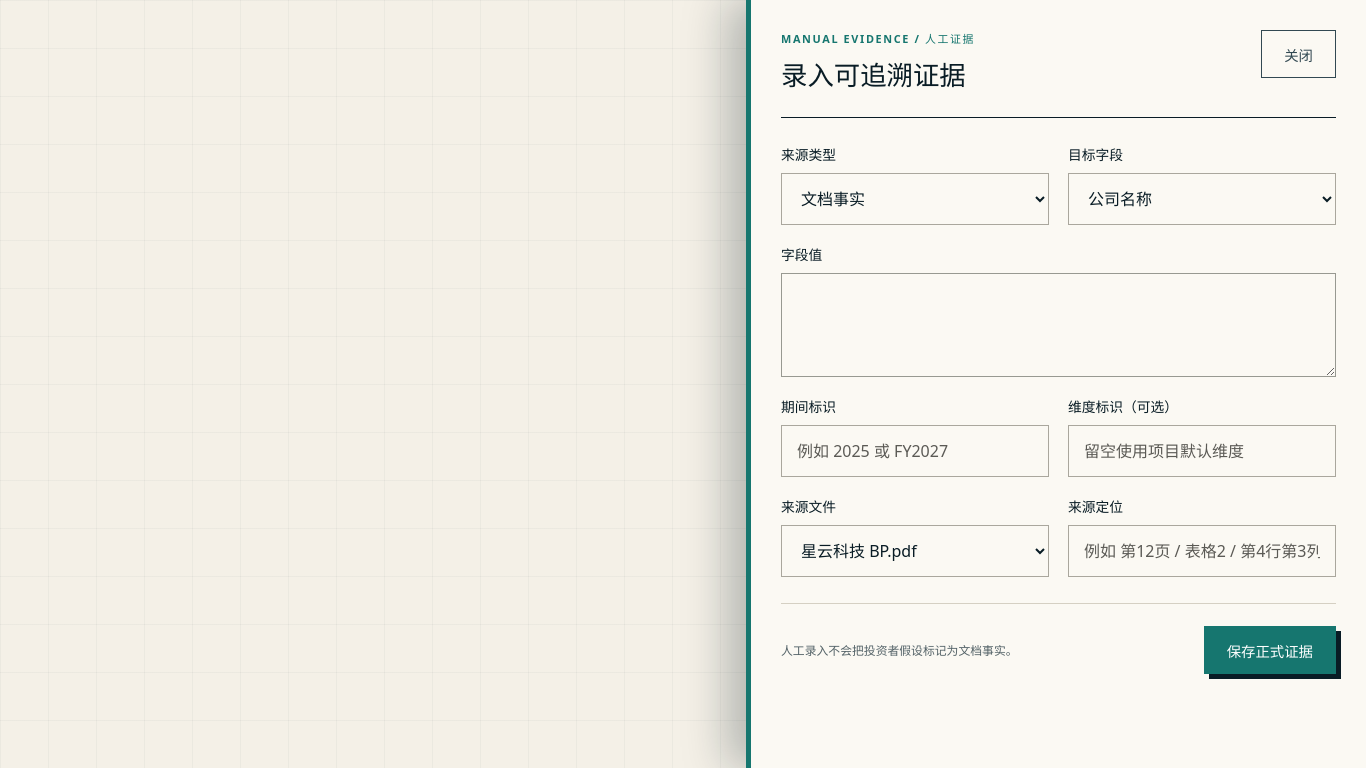
it: ManualEvidenceForm › saves a located document fact through formal evidence persistence
The image size is (1366, 768).
Select "营业收入" in the dropdown labelled "目标字段" at coordinates (1202, 199), box [1068, 173, 1336, 225]
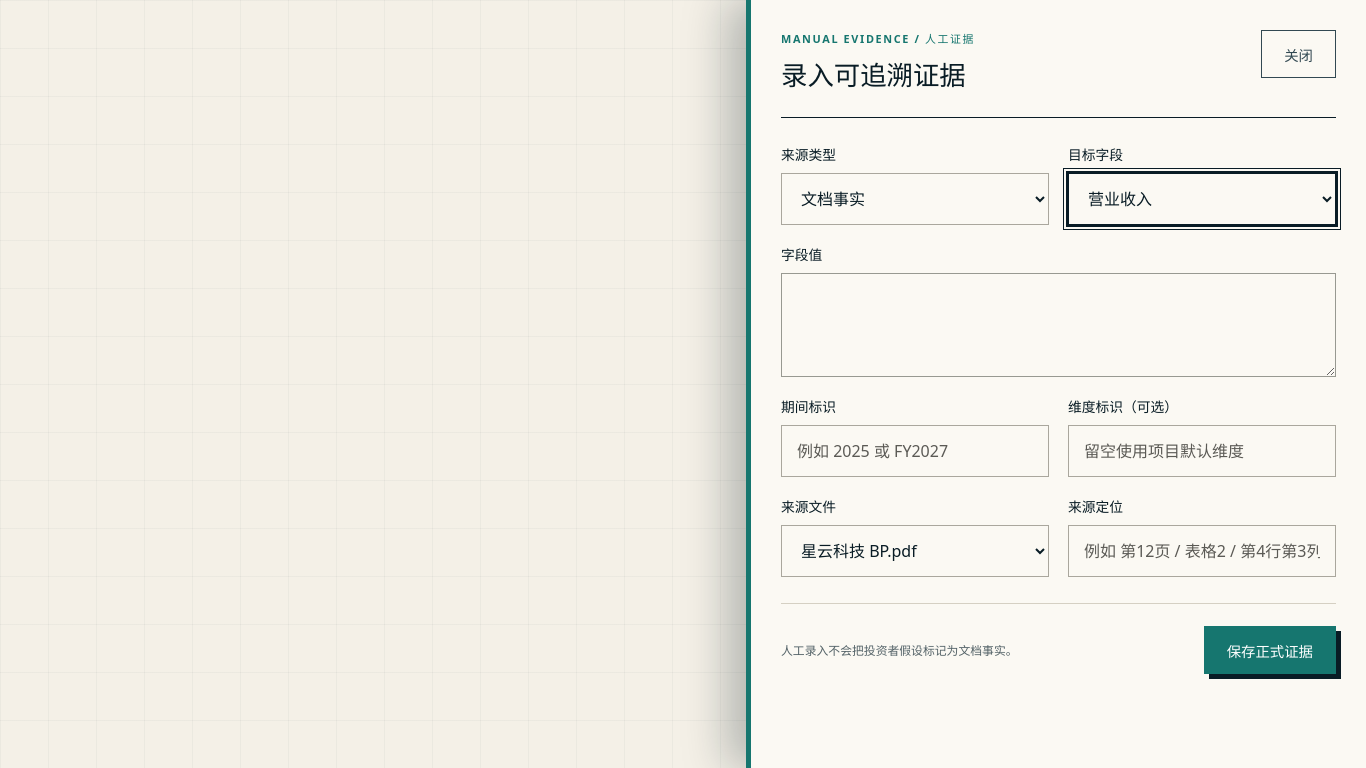
Type "120000000" into the text box labelled "字段值" at coordinates (1058, 325), box [781, 273, 1336, 377]
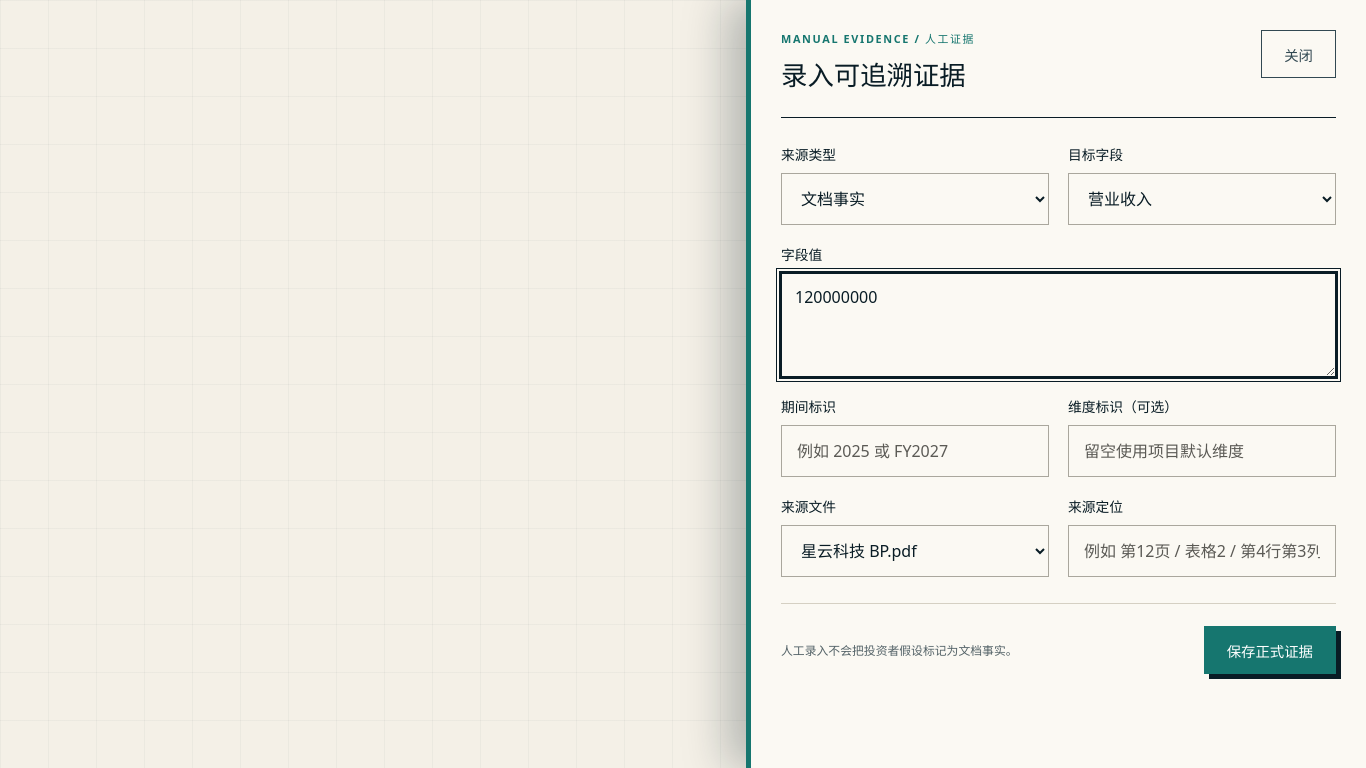
Type "2025" into the field labelled "期间标识" at coordinates (915, 451), box [781, 425, 1049, 477]
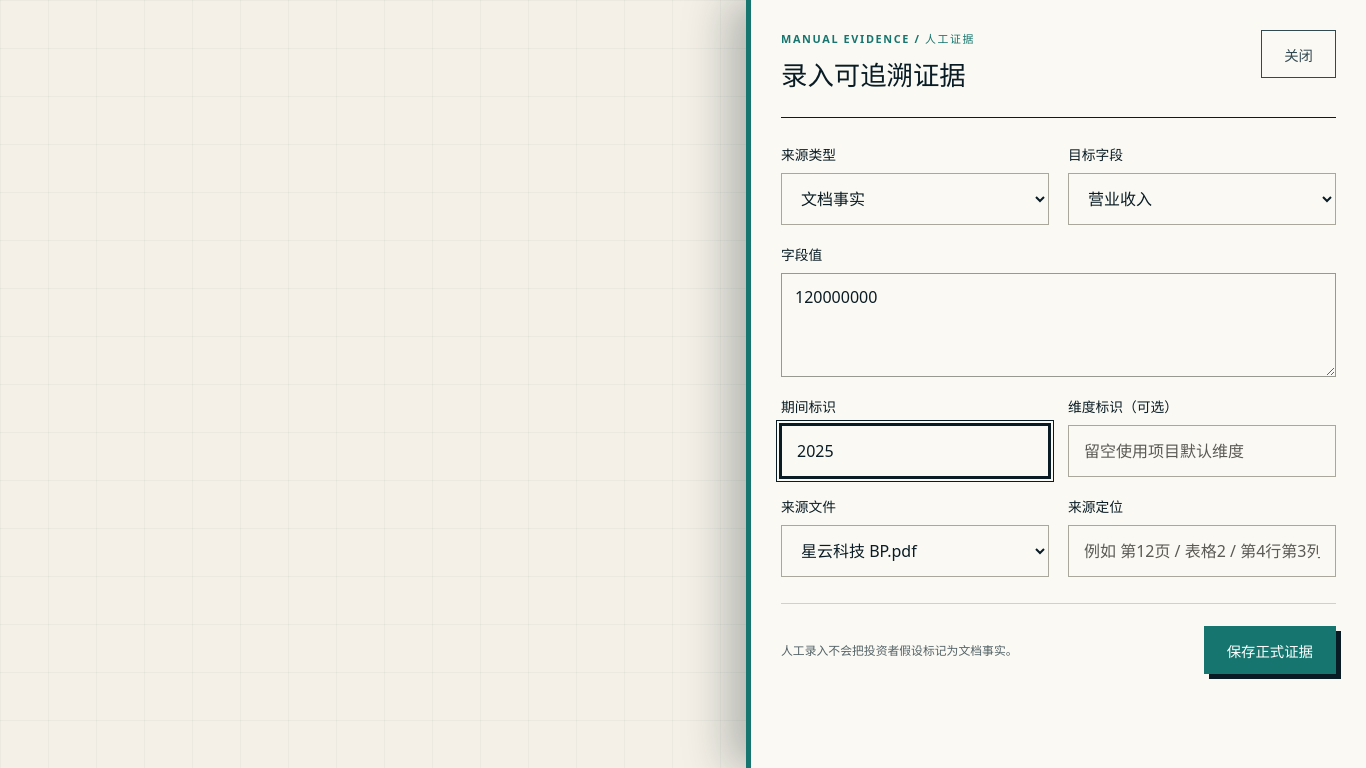
Type "第12页 / 表格2 / 第4行第3列" into the field labelled "来源定位" at coordinates (1202, 551), box [1068, 525, 1336, 577]
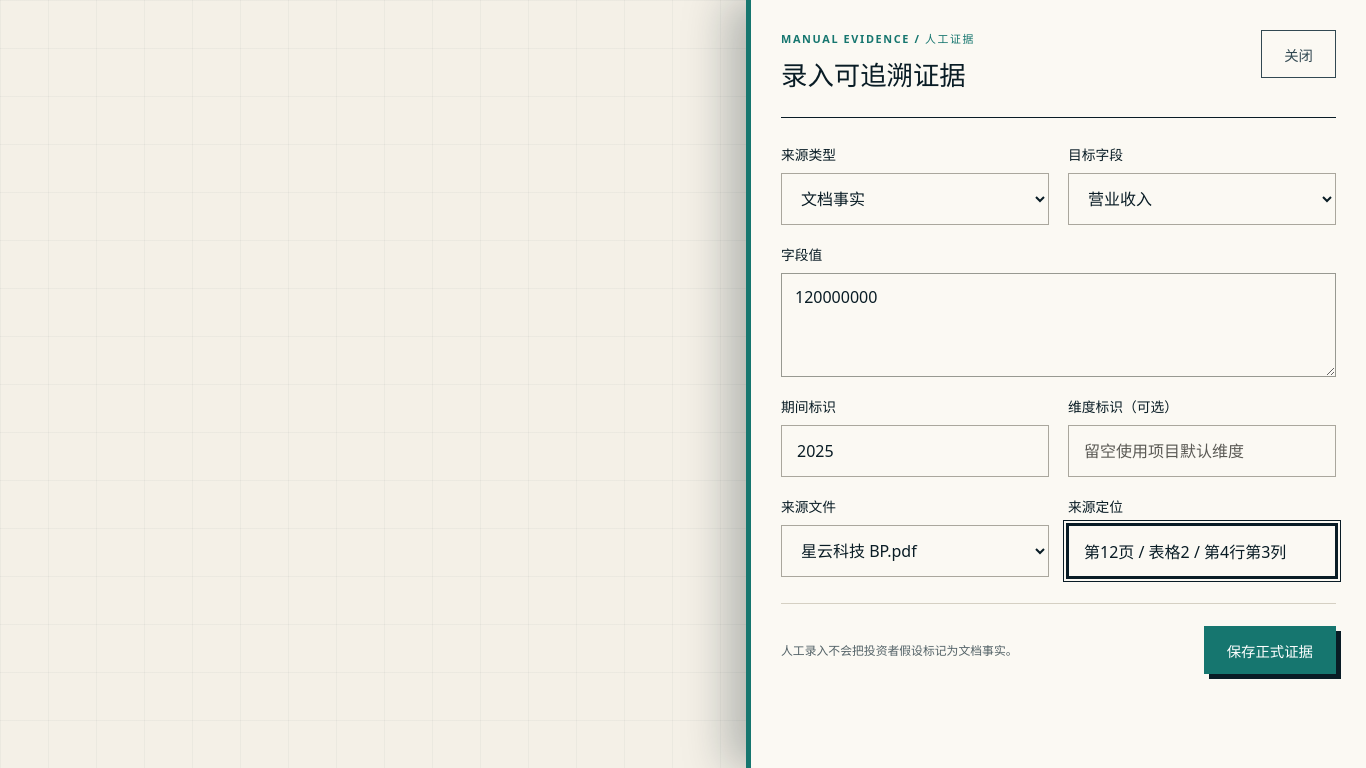
Click the button "保存正式证据" at coordinates (1270, 650), box [1204, 626, 1336, 674]
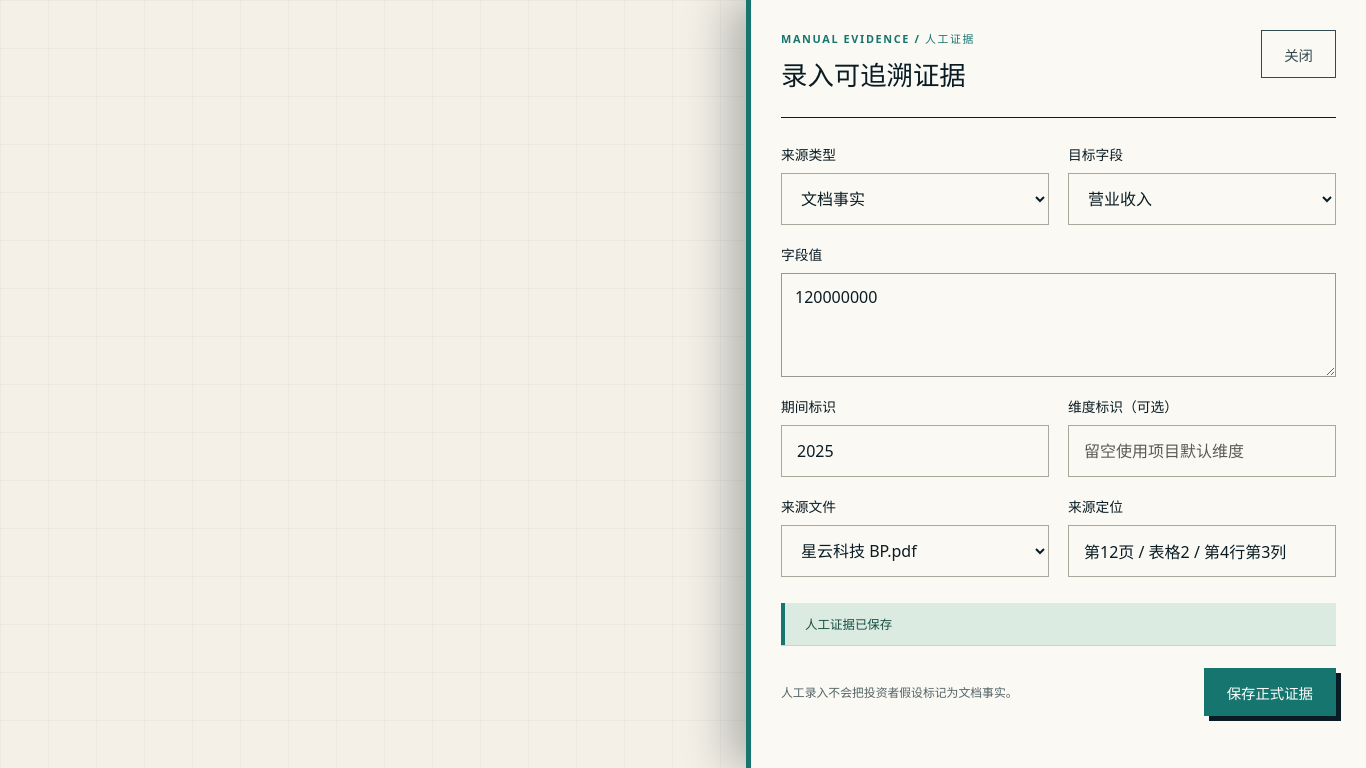
Expected: the text "人工证据已保存" is shown, [781, 603, 1336, 645]
